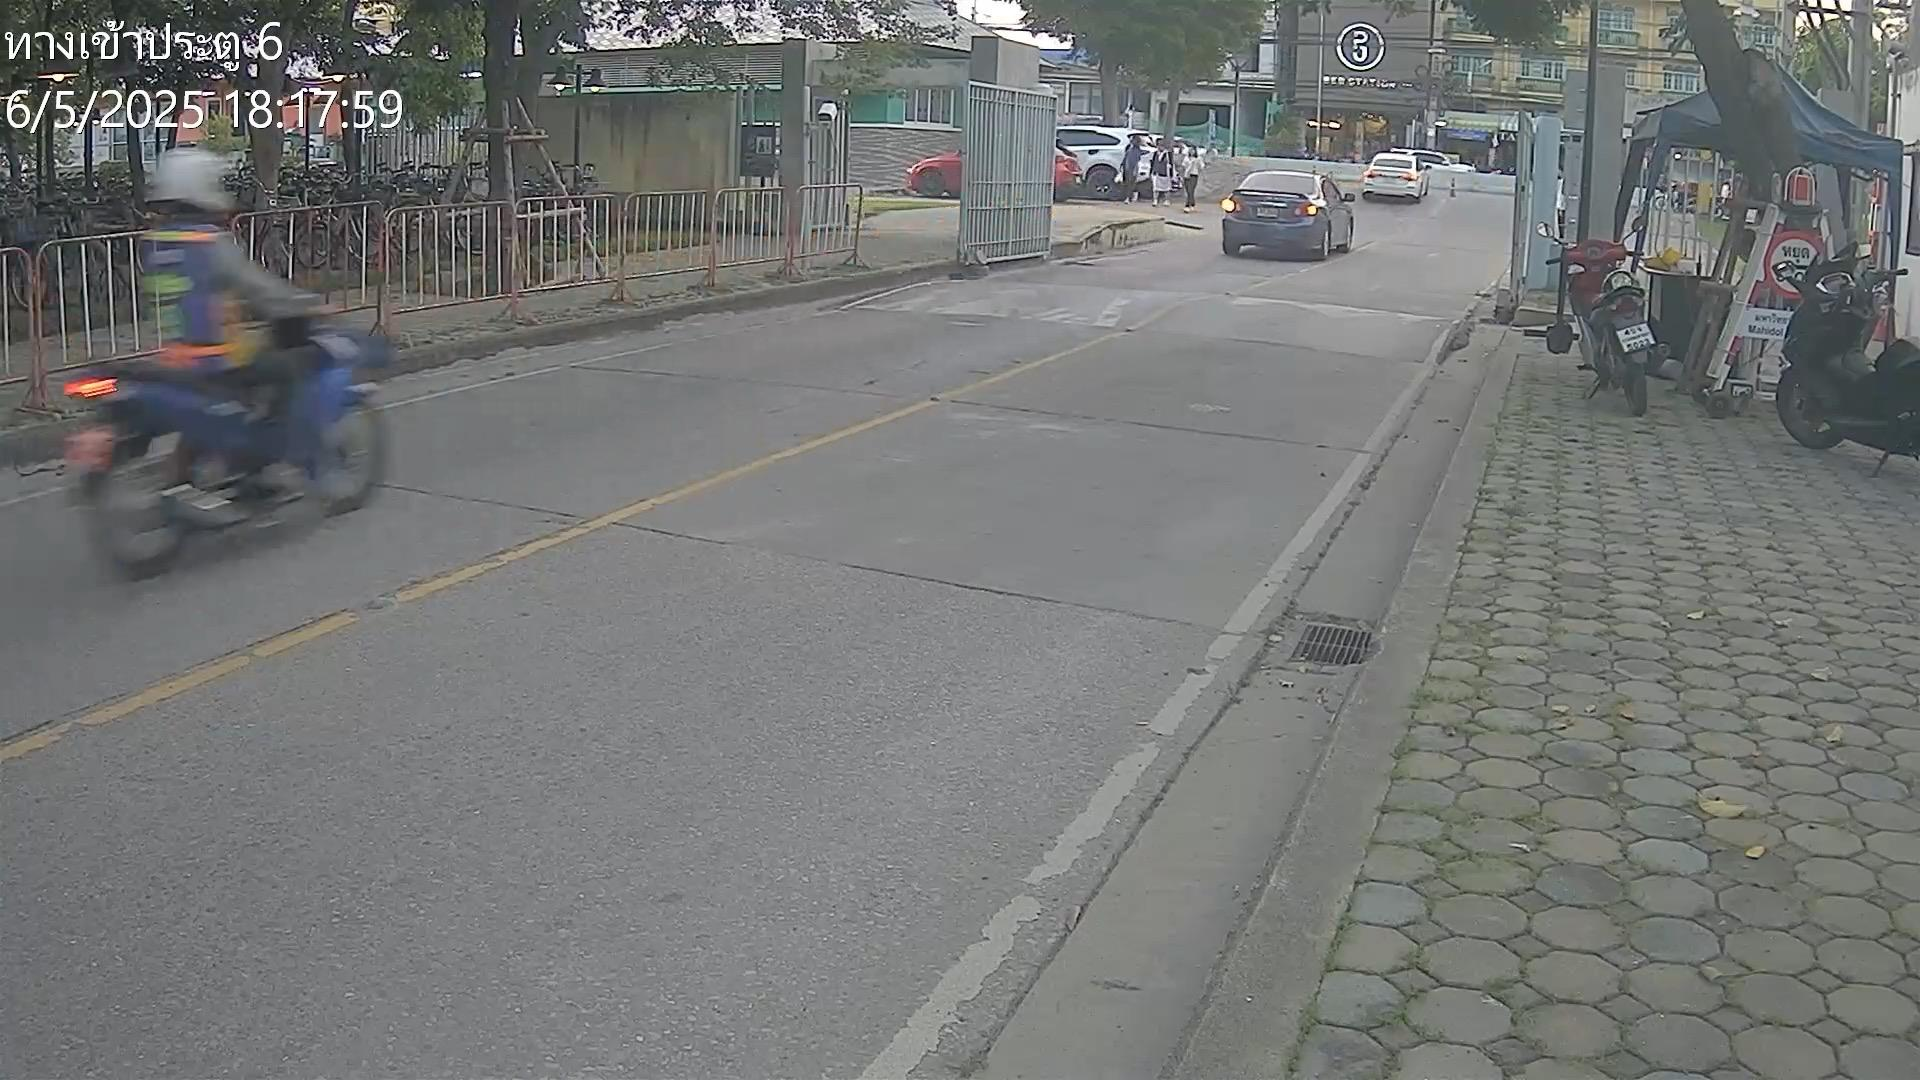With-Helmet: (135, 142, 244, 224)
